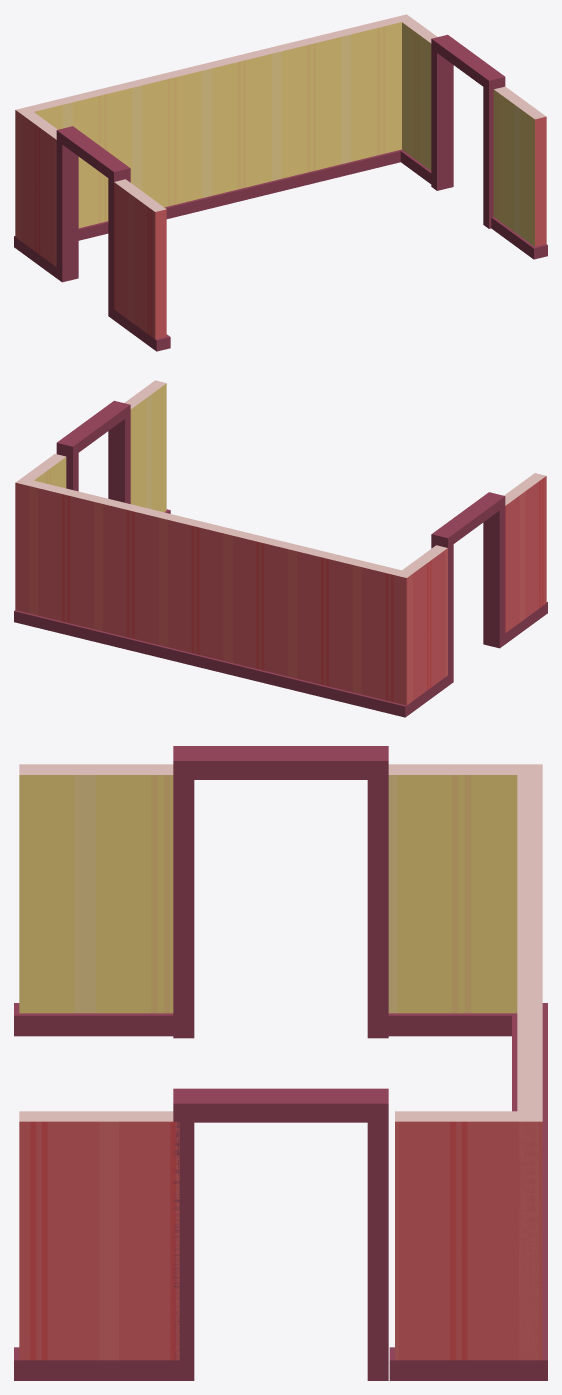
File: Room01_Wall_OO_geo.fbx
3 renders of one model, top to bottom at view 1: azimuth 30°, elevation 25°; view 2: azimuth 150°, elevation 25°; view 3: azimuth 270°, elevation 25°, orthographic. The views are drawn at different scales.
Visible parts, largest first — view 1: Room01_Wall_OO_geo; view 2: Room01_Wall_OO_geo; view 3: Room01_Wall_OO_geo.
Boxes of the visible parts, bbox=[...] form: Room01_Wall_OO_geo: bbox=[14, 14, 547, 351]; Room01_Wall_OO_geo: bbox=[14, 380, 547, 717]; Room01_Wall_OO_geo: bbox=[14, 746, 547, 1380].
Bounding box in the file's own units: 6.03 × 3.81 × 2.18.
